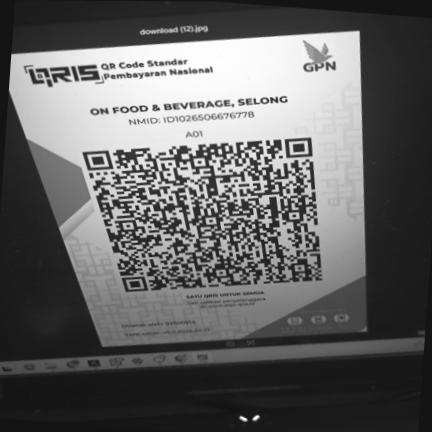Cara Pakai QRIS: (273, 303, 365, 335)
Cek Aplikasi Penyelenggara: (183, 295, 272, 311)
Dicetak Oleh: (117, 316, 199, 329)
Logo GPN: (293, 35, 346, 77)
Logo dan deskripsi QRIS: (17, 50, 222, 92)
Nama Merchant: (81, 89, 299, 120)
National Merchant ID: (124, 107, 260, 129)
QR Code: (75, 135, 329, 296)
Slogan: (182, 288, 269, 300)
Terminal ID: (176, 127, 210, 140)
Versi Cetak: (119, 325, 215, 339)
